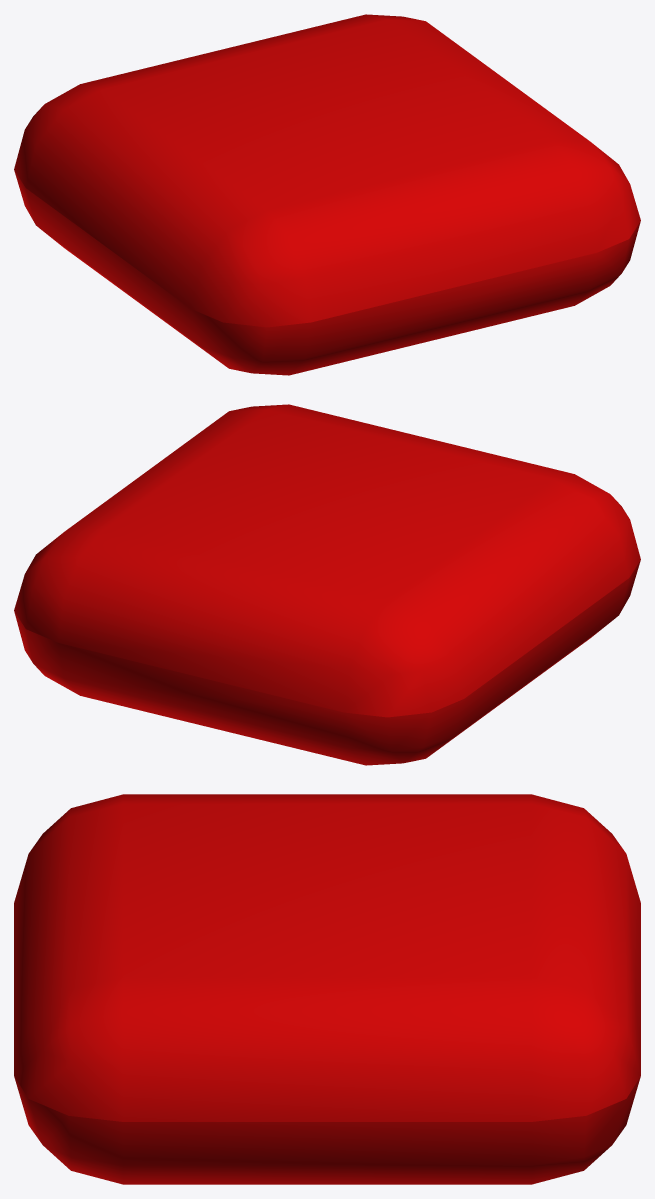
The model's file is quadrado vermelho.fbx.
3 renders of one model, top to bottom at view 1: azimuth 30°, elevation 25°; view 2: azimuth 150°, elevation 25°; view 3: azimuth 270°, elevation 25°, orthographic. The views are drawn at different scales.
Parts seen in each view (by area): view 1: Cube.001; view 2: Cube.001; view 3: Cube.001.
Part boxes in pixels (box(x1,y1,x2,y2)): Cube.001: box(14, 14, 640, 375); Cube.001: box(14, 404, 640, 765); Cube.001: box(14, 794, 640, 1184).
Bounding box in the file's own units: 0.2355 × 0.082 × 0.2355.
